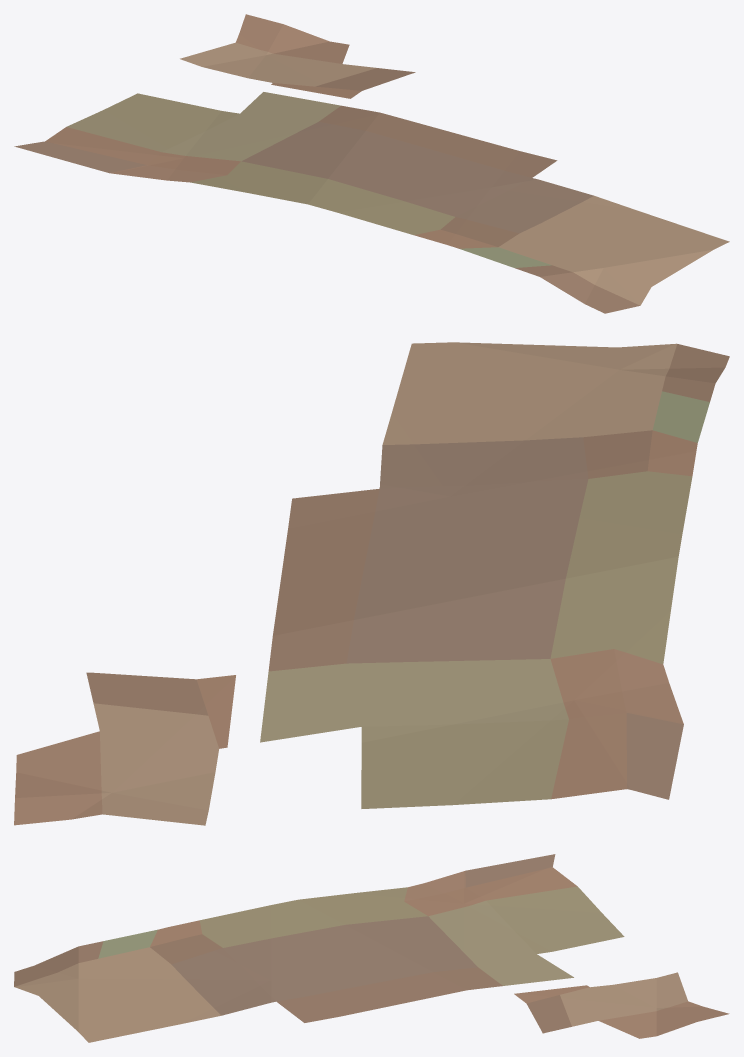
Rendered from farm_-16_-24_soil.glb.
3 renders of one model, top to bottom at view 1: azimuth 30°, elevation 25°; view 2: azimuth 150°, elevation 25°; view 3: azimuth 270°, elevation 25°, orthographic. The views are drawn at different scales.
Visible parts, largest first — view 1: geometry_0; view 2: geometry_0; view 3: geometry_0.
Part boxes in pixels (x1,y1,x2,y2): geometry_0: (14, 14, 729, 313); geometry_0: (14, 342, 729, 825); geometry_0: (14, 854, 729, 1042).
Bounding box in the file's own units: 182 × 18.38 × 297.
